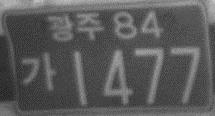1: (72, 49, 89, 107)
4: (103, 48, 133, 105), (140, 9, 163, 39)
7: (132, 46, 166, 105), (170, 45, 201, 105)
8: (113, 10, 136, 39)
가: (19, 50, 57, 91)
광주_O: (46, 12, 104, 42)
